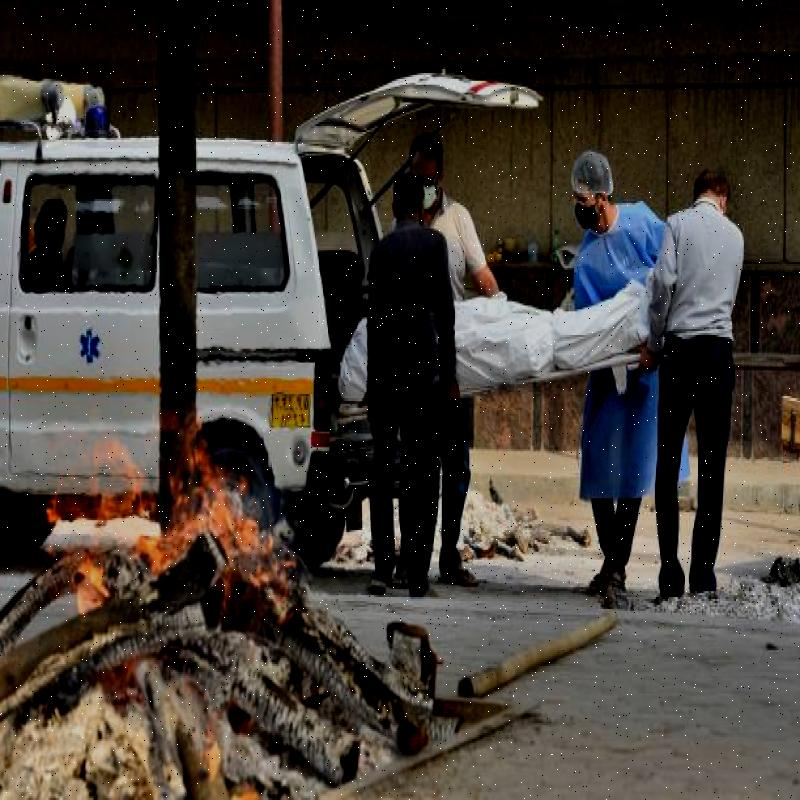ambulance: (0, 70, 365, 601)
